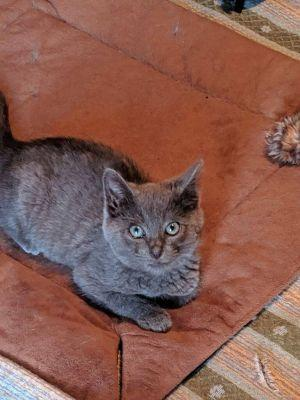rblue: (96, 157, 212, 285)
